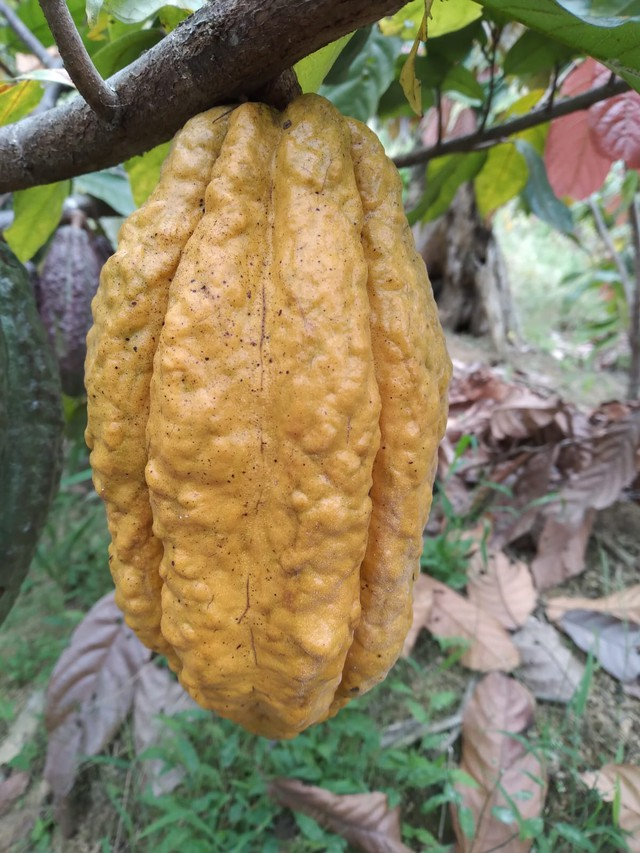Health: (74, 90, 462, 745)
